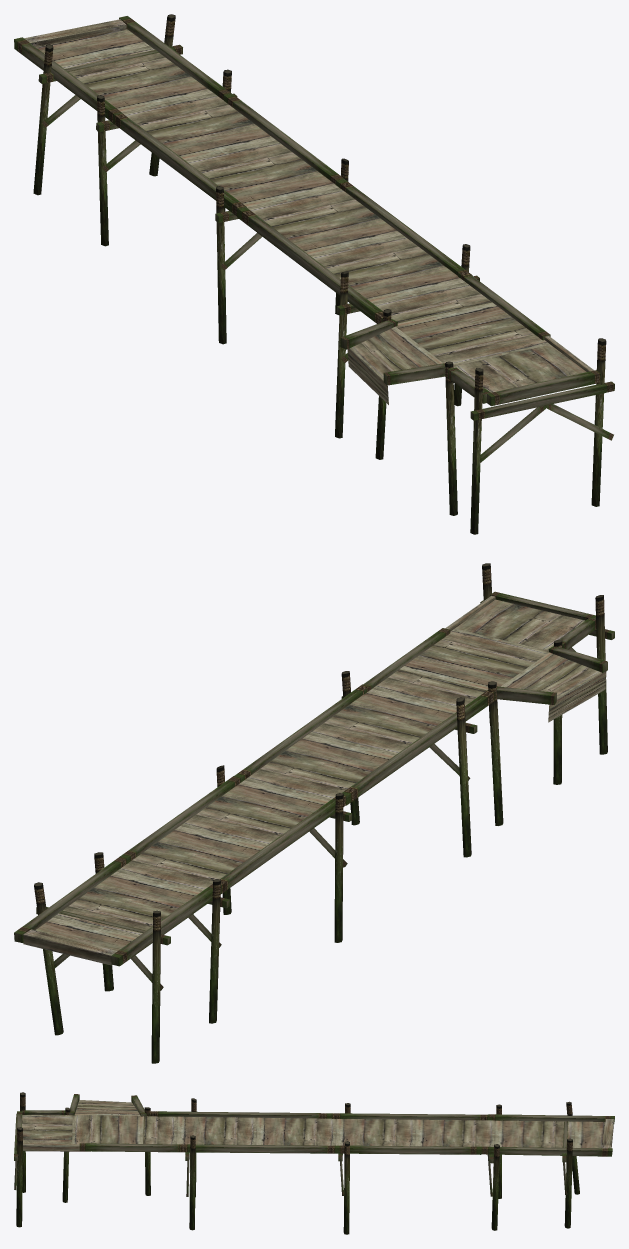
The model's file is pier_2_kings.fbx.
The picture shows the model from 3 angles, top to bottom: view 1: azimuth 30°, elevation 25°; view 2: azimuth 150°, elevation 25°; view 3: azimuth 270°, elevation 25°; orthographic projection. The views are drawn at different scales.
Parts seen in each view (by area): view 1: planks5, planks, pasted__polySurface232, pasted__polySurface230, pasted__polySurface233, pasted__polySurface242, pasted__polySurface194, pasted__polySurface231, pasted__polySurface243, pasted__polySurface229, pasted__pylon_39, pasted__pylon_41 (+9 smaller); view 2: planks5, planks, pasted__polySurface232, pasted__polySurface230, pasted__polySurface194, pasted__polySurface233, port_royal_pier_2_v6s1_support_16, pasted__polySurface231, pasted__polySurface229, pasted__pylon_36, pasted__pylon_40, pasted__pylon_35 (+8 smaller); view 3: planks5, planks, pasted__polySurface233, pasted__polySurface231, pasted__polySurface232, pasted__polySurface229, pasted__polySurface230, pasted__polySurface234, pasted__polySurface194, pasted__pylon_41, pasted__pylon_42, pasted__pylon_33 (+9 smaller).
Part boxes in pixels (x1,y1,x2,y2): planks5: (36, 29, 586, 404); planks: (156, 53, 581, 387); pasted__polySurface232: (237, 207, 383, 323); pasted__polySurface230: (112, 113, 246, 216); pasted__polySurface233: (335, 179, 472, 276); pasted__polySurface242: (487, 370, 600, 406); pasted__polySurface194: (14, 37, 121, 123); pasted__polySurface231: (224, 93, 344, 184); pasted__polySurface243: (470, 381, 614, 420); pasted__polySurface229: (119, 16, 231, 100); pasted__pylon_39: (470, 368, 483, 534); pasted__pylon_41: (591, 338, 606, 506); planks5: (35, 599, 606, 950); planks: (51, 605, 605, 918); pasted__polySurface232: (342, 690, 495, 805); pasted__polySurface230: (220, 795, 346, 893); pasted__polySurface194: (111, 884, 221, 966); pasted__polySurface233: (234, 684, 369, 782); port_royal_pier_2_v6s1_support_16: (23, 929, 117, 965); pasted__polySurface231: (120, 776, 240, 863); pasted__polySurface229: (14, 856, 126, 942); pasted__pylon_36: (456, 697, 471, 857); pasted__pylon_40: (151, 910, 160, 1063); pasted__pylon_35: (334, 793, 343, 942); planks5: (22, 1100, 605, 1148); planks: (22, 1101, 520, 1146); pasted__polySurface233: (178, 1144, 339, 1153); pasted__polySurface231: (339, 1145, 481, 1154); pasted__polySurface232: (148, 1111, 331, 1118); pasted__polySurface229: (481, 1146, 612, 1156); pasted__polySurface230: (331, 1113, 492, 1120); pasted__polySurface234: (79, 1143, 178, 1152); pasted__polySurface194: (488, 1114, 614, 1123); pasted__pylon_41: (16, 1127, 22, 1227); pasted__pylon_42: (189, 1135, 195, 1230); pasted__pylon_33: (564, 1138, 572, 1228).
Size of the model in its own units: 5712 by 4888 by 24915.
2 materials, 2 textured.
